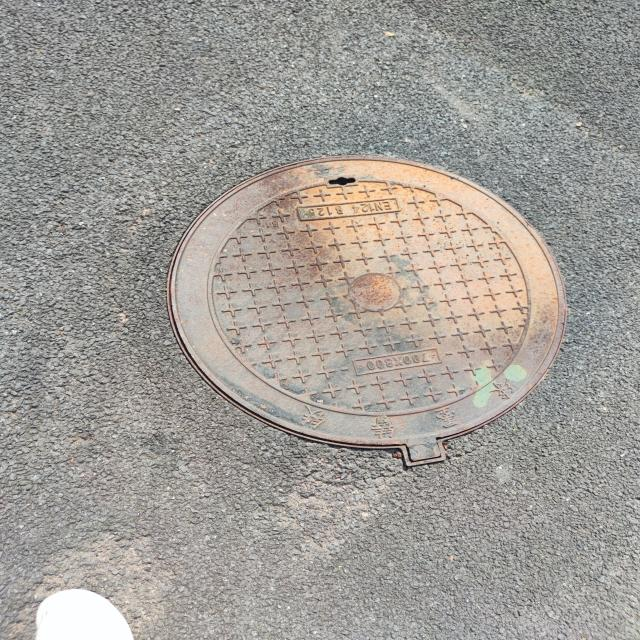Good: (160, 152, 574, 472)
